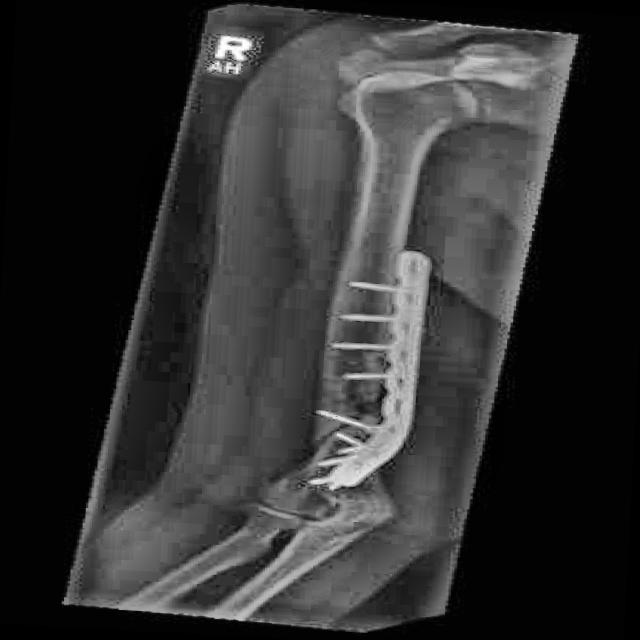humerus: (261, 403, 402, 471)
